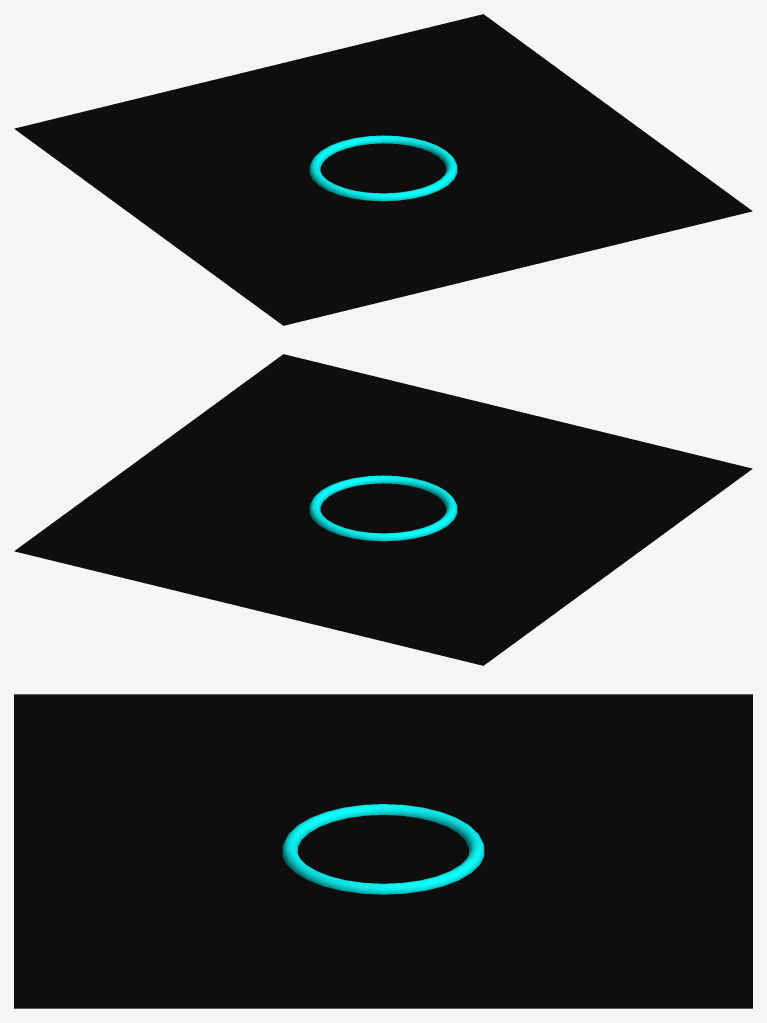
File: backlight.fbx
3 renders of one model, top to bottom at view 1: azimuth 30°, elevation 25°; view 2: azimuth 150°, elevation 25°; view 3: azimuth 270°, elevation 25°, orthographic. The views are drawn at different scales.
Parts seen in each view (by area): view 1: pPlane13; view 2: pPlane13; view 3: pPlane13.
Part boxes in pixels (left/top/right/bottom): pPlane13: left=14, top=14, right=752, bottom=325; pPlane13: left=14, top=354, right=752, bottom=665; pPlane13: left=14, top=694, right=752, bottom=1008.
Bounding box in the file's own units: 1920 × 39.88 × 1909.
